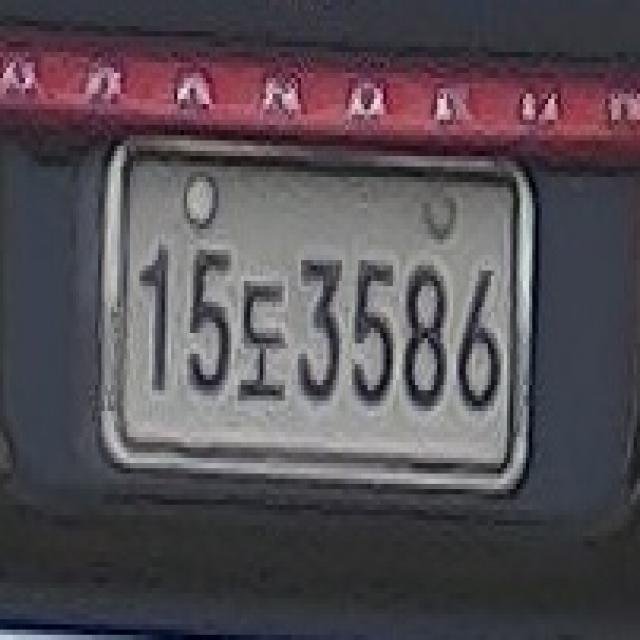1: (133, 229, 177, 411)
3: (298, 234, 342, 416)
5: (184, 234, 238, 416), (345, 250, 396, 411)
6: (460, 255, 510, 427)
8: (396, 255, 456, 432)
do: (238, 266, 292, 416)
license_plate: (92, 130, 545, 494)
